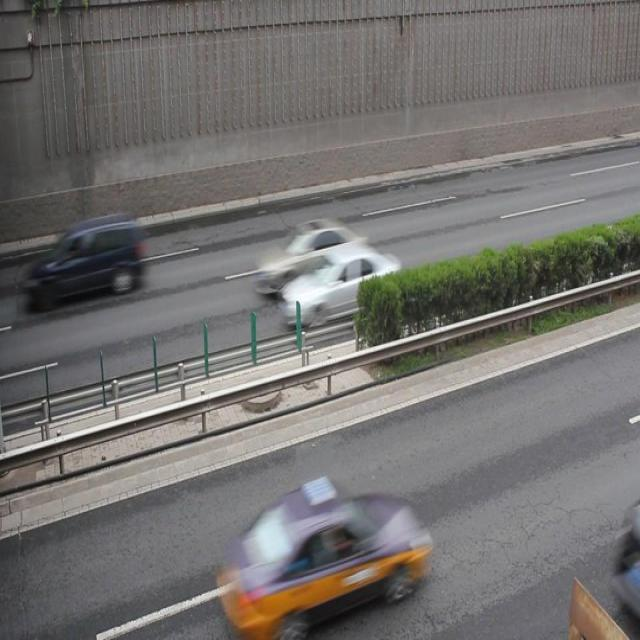car: (219, 476, 428, 640), (280, 245, 399, 326), (254, 218, 365, 294)
truck: (32, 214, 144, 304)
